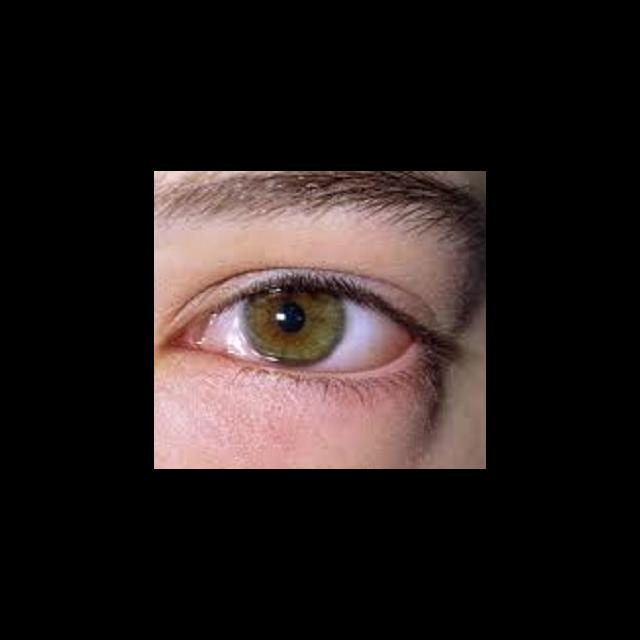eye: (201, 288, 415, 373)
iris: (242, 289, 344, 367)
